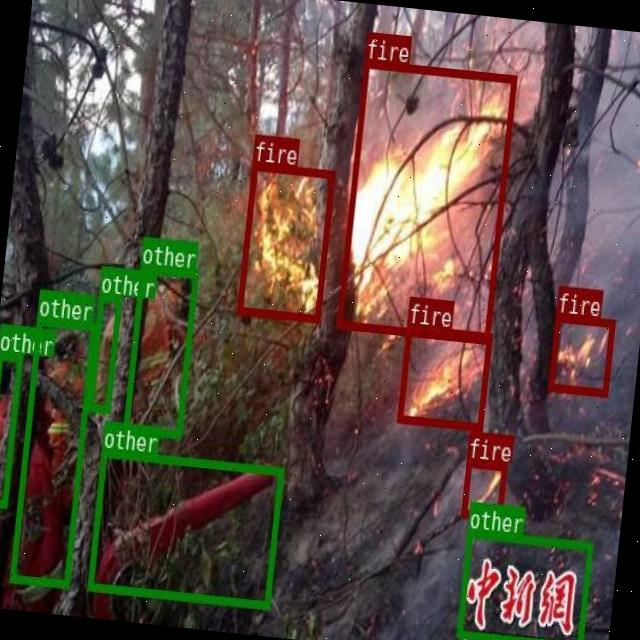fire: (336, 59, 514, 342), (235, 160, 334, 320), (397, 322, 492, 430), (547, 314, 614, 396), (460, 458, 505, 520)
